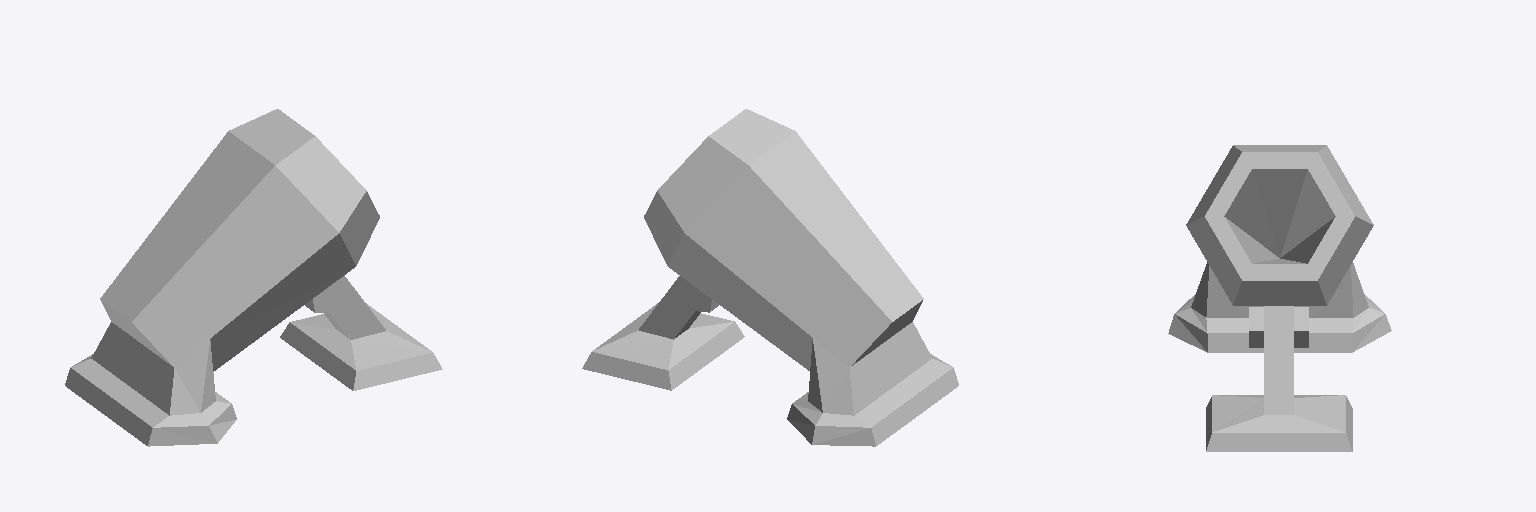
Rendered from gunshopmortar.obj.
3 renders of one model, left to right at view 1: azimuth 30°, elevation 25°; view 2: azimuth 150°, elevation 25°; view 3: azimuth 270°, elevation 25°, orthographic.
Visible parts, largest first — view 1: GunShopMortar; view 2: GunShopMortar; view 3: GunShopMortar.
Part boxes in pixels (x1,y1,x2,y2): GunShopMortar: (65, 109, 442, 446); GunShopMortar: (582, 109, 958, 446); GunShopMortar: (1168, 145, 1391, 451).
Bounding box in the file's own units: 1.27 × 1 × 0.8208.